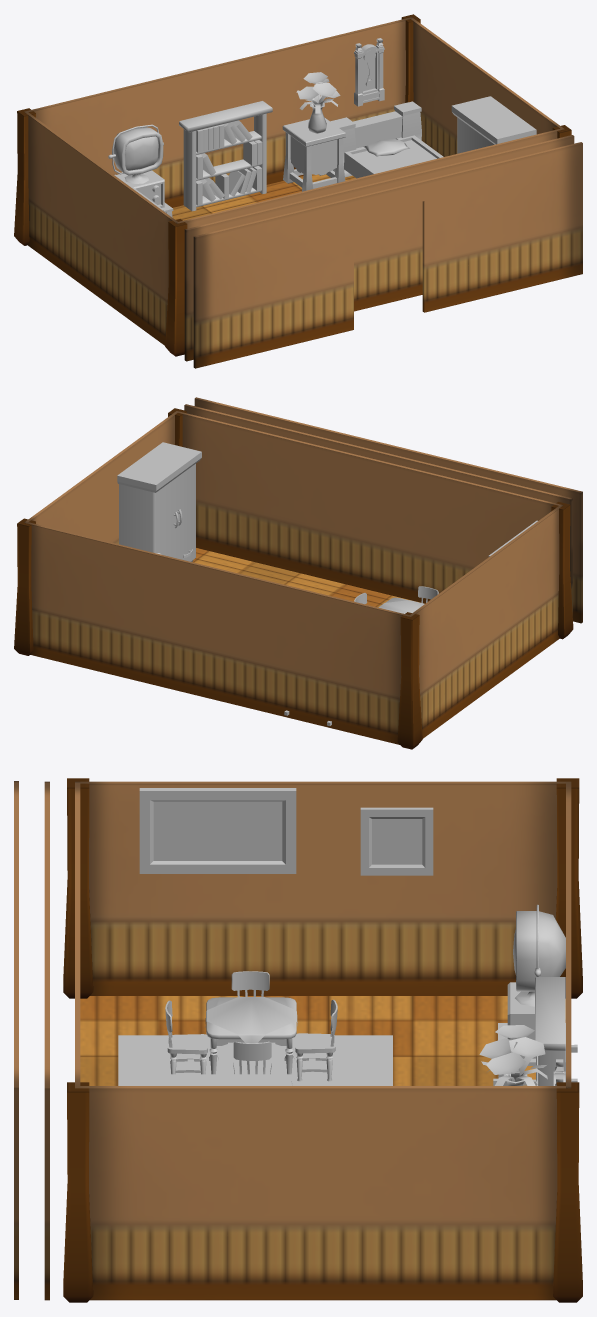
The model's file is Room_01_F.FBX.
3 views of the same model, one above another, from view 1: azimuth 30°, elevation 25°; view 2: azimuth 150°, elevation 25°; view 3: azimuth 270°, elevation 25° (orthographic). The views are drawn at different scales.
Parts seen in each view (by area): view 1: Wall_Door_01_single, Room1_Wall1, Room1_Wall2, Room1_Wall4, Room1_Wall3, Bookcase_004, Wall_Door_01_double, Room1_Pillars, Single_Bed_004, Cabinet_006, TV_004, Cabinet002 (+3 smaller); view 2: Room1_Wall1, Room1_Wall4, Room1_Wall2, Cabinet002, Room1_Pillars, Room1_Wall3, Wall_Door_01_single, Wall_Door_01_double, Room_1_Floor, Kitchen_Table_004; view 3: Room1_Wall3, Room1_Wall2, Room_1_Floor, Room1_Pillars, Picture_009, Kitchen_Table_004, Carpet_01a001, Picture_004, TV_004, Wall_Door_01_double, Bookcase_004, FlowerPot_003 (+4 smaller).
Part boxes in pixels (<box>): Wall_Door_01_single: <box>193,142,582,368</box>; Room1_Wall1: <box>24,17,412,207</box>; Room1_Wall2: <box>25,112,177,345</box>; Room1_Wall4: <box>176,128,564,311</box>; Room1_Wall3: <box>411,18,562,156</box>; Bookcase_004: <box>179,101,272,211</box>; Wall_Door_01_double: <box>184,135,574,361</box>; Room1_Pillars: <box>14,14,571,356</box>; Single_Bed_004: <box>330,101,443,178</box>; Cabinet_006: <box>282,117,345,191</box>; TV_004: <box>108,124,173,217</box>; Cabinet002: <box>451,96,536,153</box>; Room1_Wall1: <box>24,521,411,744</box>; Room1_Wall4: <box>175,411,562,603</box>; Room1_Wall2: <box>409,506,561,738</box>; Cabinet002: <box>117,442,201,561</box>; Room1_Pillars: <box>14,408,573,749</box>; Room1_Wall3: <box>26,412,177,544</box>; Wall_Door_01_single: <box>194,397,582,623</box>; Wall_Door_01_double: <box>184,404,572,617</box>; Room_1_Floor: <box>192,548,424,607</box>; Kitchen_Table_004: <box>354,586,438,613</box>; Room1_Wall3: <box>75,1086,567,1300</box>; Room1_Wall2: <box>80,781,570,995</box>; Room_1_Floor: <box>80,996,565,1085</box>; Room1_Pillars: <box>63,778,582,1302</box>; Picture_009: <box>139,788,296,873</box>; Kitchen_Table_004: <box>165,971,337,1085</box>; Carpet_01a001: <box>118,1035,392,1085</box>; Picture_004: <box>360,807,433,875</box>; TV_004: <box>493,904,577,1085</box>; Wall_Door_01_double: <box>44,781,49,1300</box>; Bookcase_004: <box>535,977,565,1085</box>; FlowerPot_003: <box>479,1025,547,1085</box>.
Bounding box in the file's own units: 293 × 91.64 × 222.
